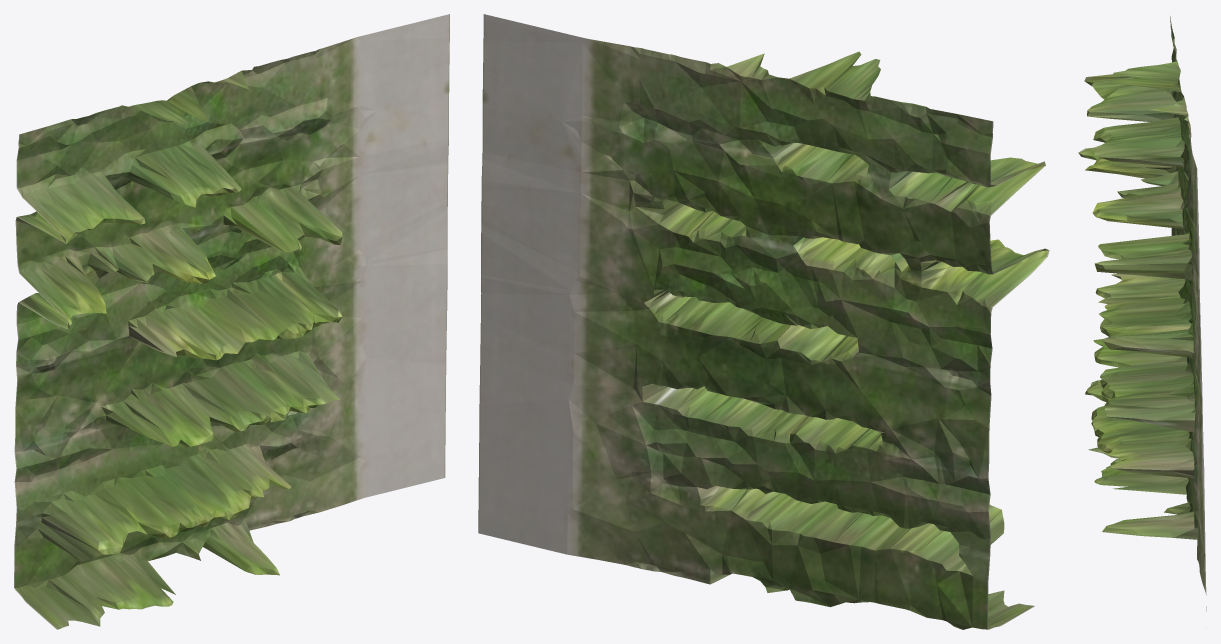
Rendered from map_130_80.obj.
3 views of the same model, side by side, from view 1: azimuth 30°, elevation 25°; view 2: azimuth 150°, elevation 25°; view 3: azimuth 270°, elevation 25° (orthographic). The views are drawn at different scales.
Visible parts, largest first — view 1: grp1; view 2: grp1; view 3: grp1.
Part boxes in pixels (box(x1,y1,x2,y2)): grp1: box(14, 14, 449, 629); grp1: box(478, 14, 1049, 629); grp1: box(1078, 16, 1206, 628).
Size of the model in its own units: 10 by 10 by 2.78.
Materials: 1 (1 with a texture image).
